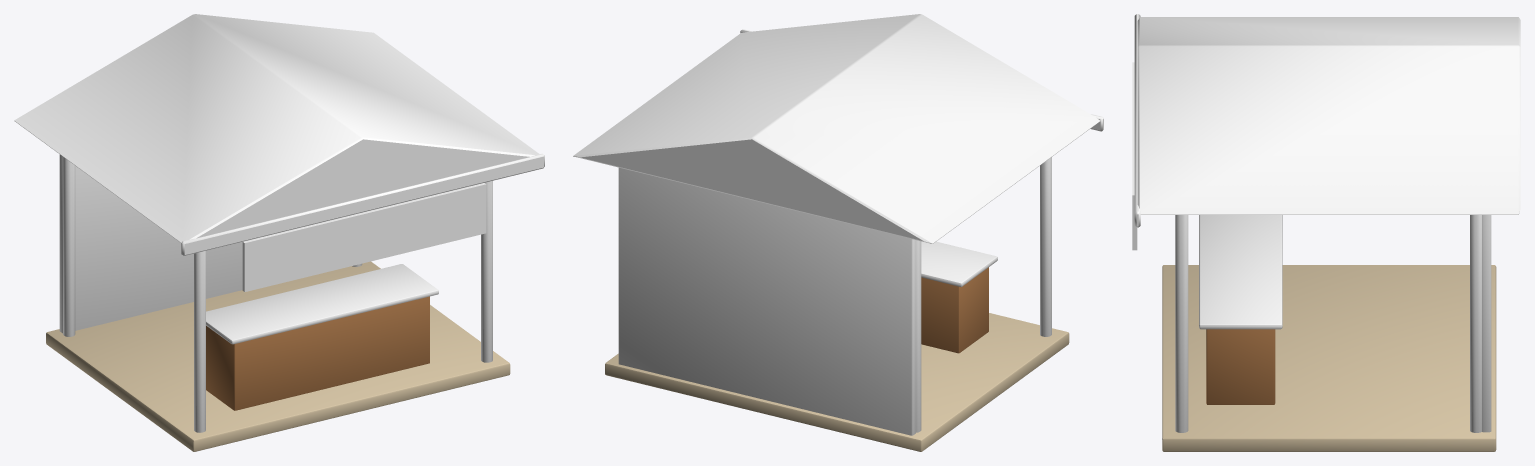
File: booth.glb
3 views of the same model, side by side, from view 1: azimuth 30°, elevation 25°; view 2: azimuth 150°, elevation 25°; view 3: azimuth 270°, elevation 25° (orthographic). The views are drawn at different scales.
Parts seen in each view (by area): view 1: RoofTint, BoothBase, SignBoard; view 2: BoothBase, RoofTint; view 3: RoofTint, BoothBase, SignBoard.
Boxes of the visible parts, bbox=[...] form: RoofTint: bbox=[14, 14, 544, 255]; BoothBase: bbox=[46, 154, 510, 451]; SignBoard: bbox=[242, 183, 486, 291]; BoothBase: bbox=[605, 157, 1069, 451]; RoofTint: bbox=[573, 14, 1103, 243]; RoofTint: bbox=[1134, 14, 1520, 227]; BoothBase: bbox=[1162, 215, 1496, 451]; SignBoard: bbox=[1132, 62, 1137, 250].
Bounding box in the file's own units: 4.8 × 3.59 × 3.96.
